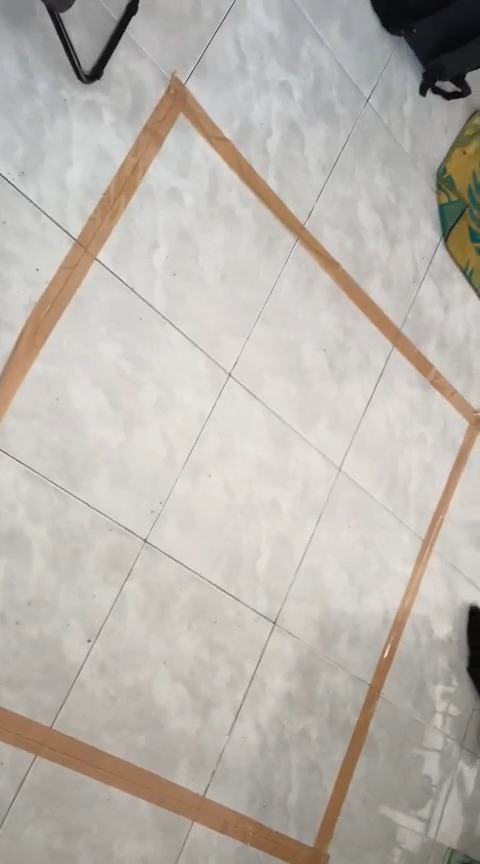floor marking: (0, 76, 479, 863)
